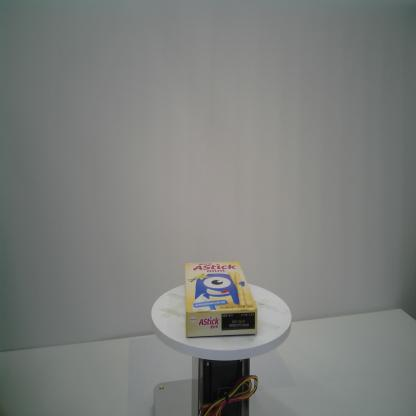Dessert: (182, 258, 259, 340)
